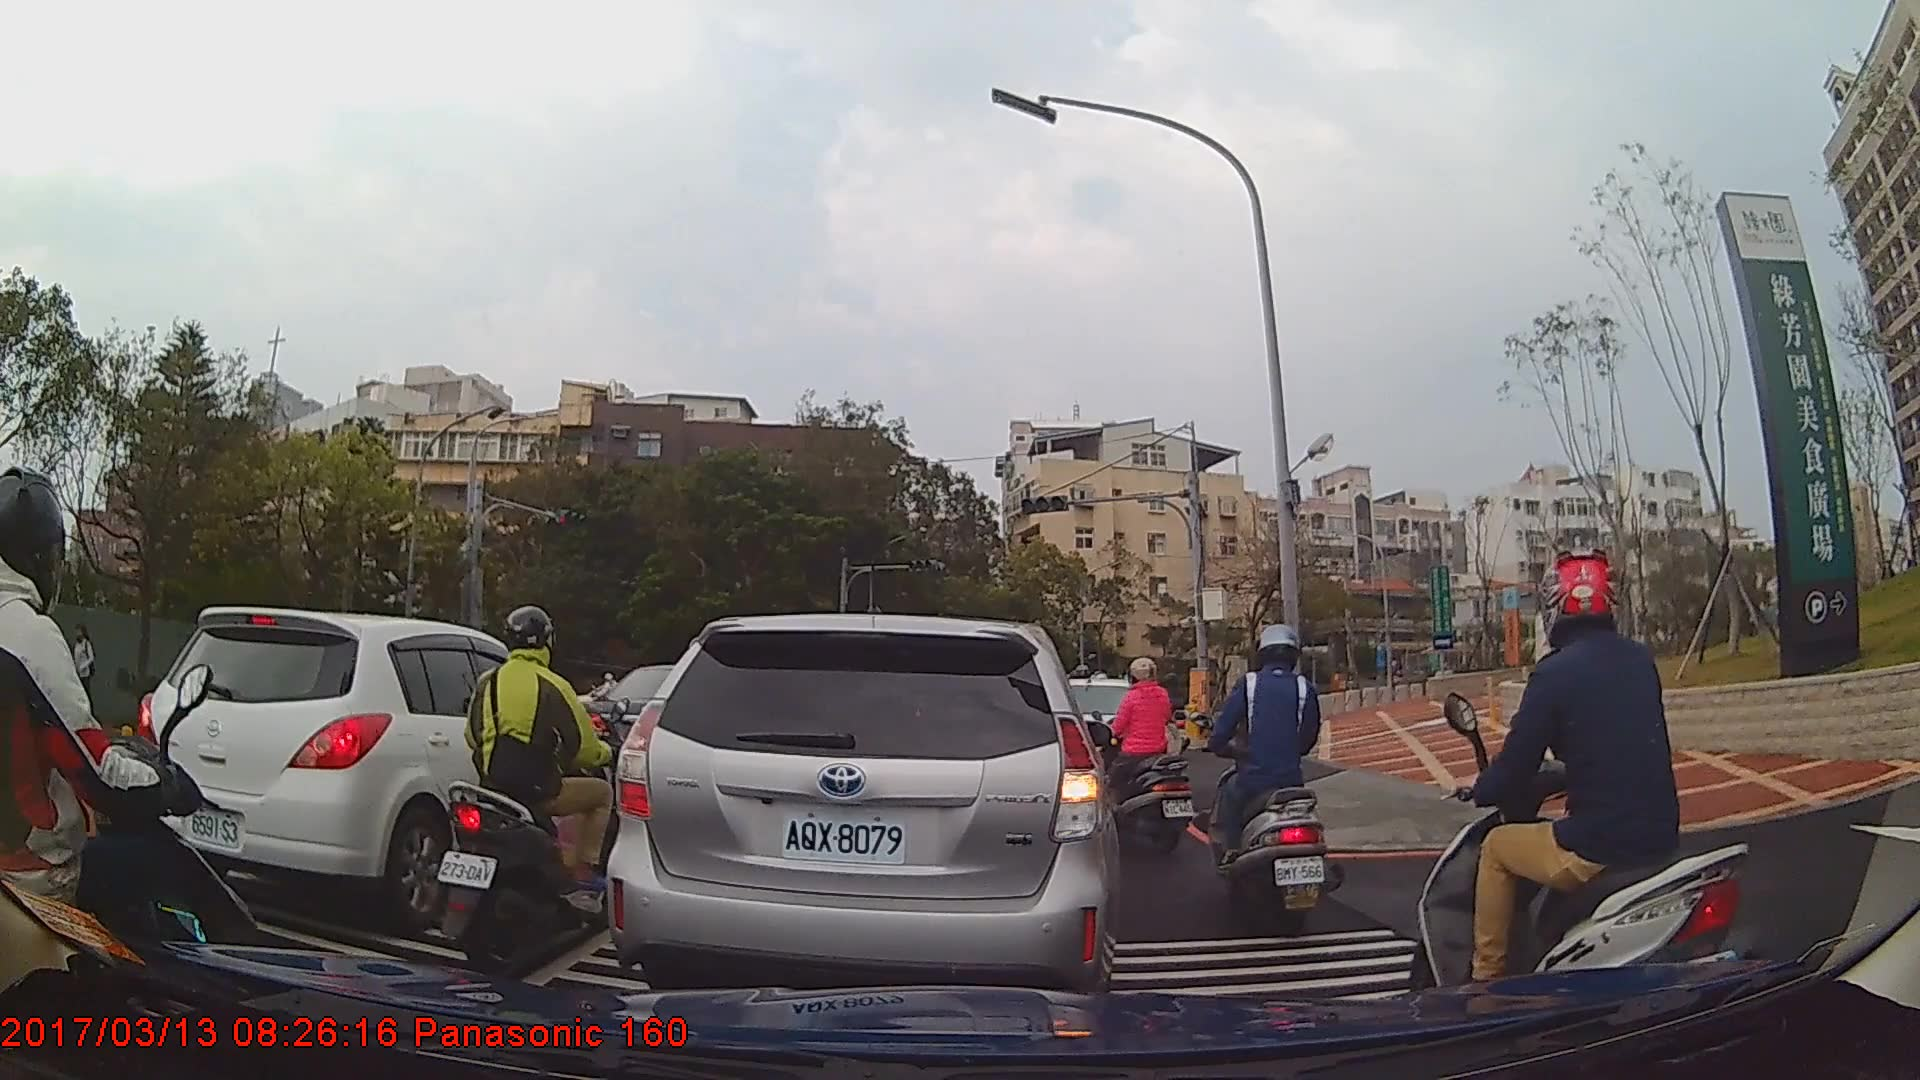rider: (1411, 547, 1748, 1043), (1, 466, 274, 1075), (438, 600, 637, 968), (1208, 616, 1336, 945), (1082, 654, 1191, 861)
vehicle: (604, 611, 1121, 1016), (131, 602, 602, 934)
